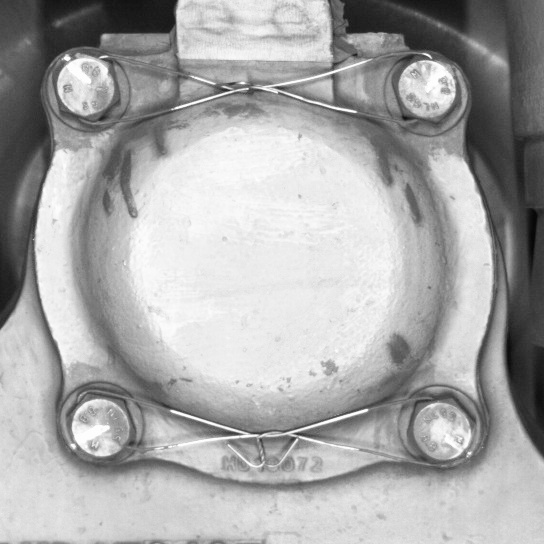IronWire: (56, 381, 487, 471), (42, 45, 471, 135)
Screw: (54, 383, 141, 470), (384, 47, 470, 135), (43, 47, 130, 131), (401, 388, 485, 471)
